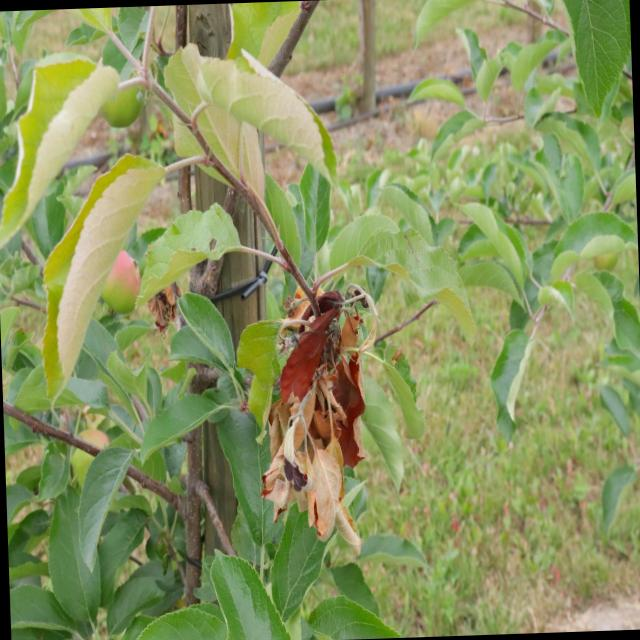-FireBlight-: (264, 292, 368, 526)
